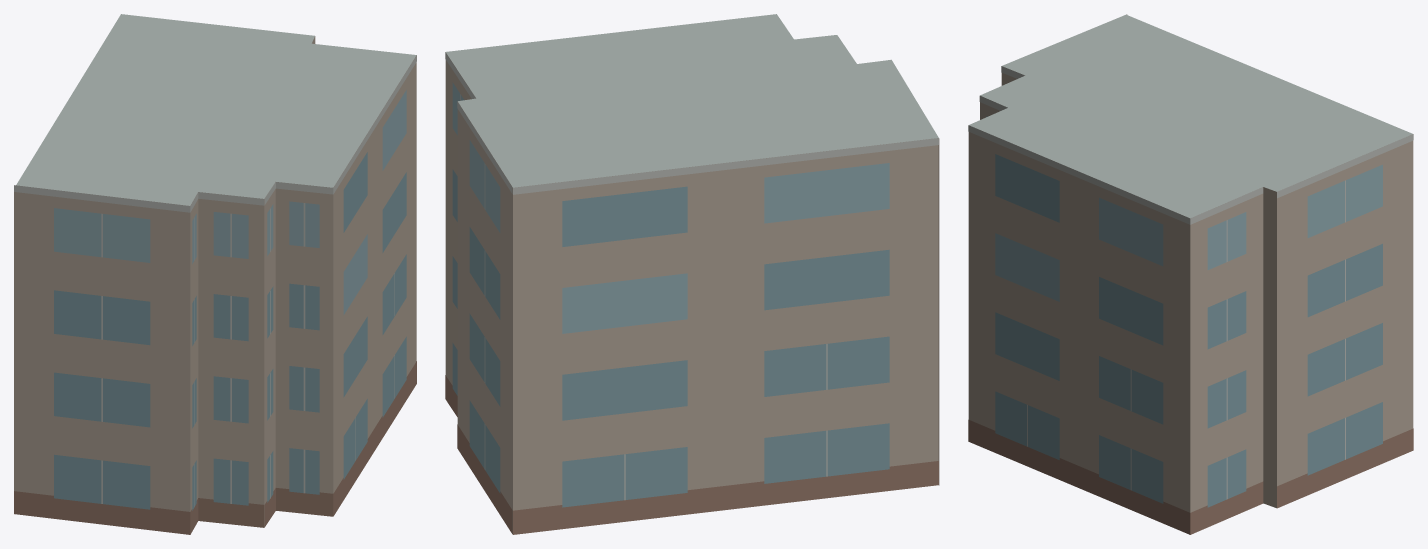
Rendered from survey-upis-33027211.glb.
3 views of the same model, side by side, from view 1: azimuth 30°, elevation 25°; view 2: azimuth 150°, elevation 25°; view 3: azimuth 270°, elevation 25° (orthographic). The views are drawn at different scales.
Parts seen in each view (by area): view 1: survey-upis-33027211.tmp; view 2: survey-upis-33027211.tmp; view 3: survey-upis-33027211.tmp.
Boxes of the visible parts, left/top/right/bottom form: survey-upis-33027211.tmp: left=14, top=14, right=416, bottom=534; survey-upis-33027211.tmp: left=445, top=14, right=939, bottom=534; survey-upis-33027211.tmp: left=968, top=14, right=1413, bottom=534.
Size of the model in its own units: 16.45 by 11.87 by 15.13.
